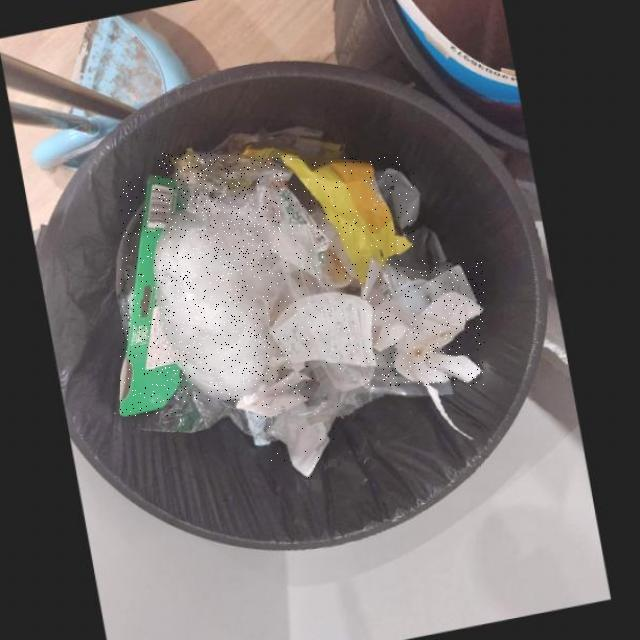paper: (362, 260, 485, 386), (121, 177, 184, 417), (272, 294, 378, 368), (268, 401, 339, 479), (236, 374, 313, 418)
plastic: (156, 153, 286, 402)
wrapper: (283, 157, 414, 286)
